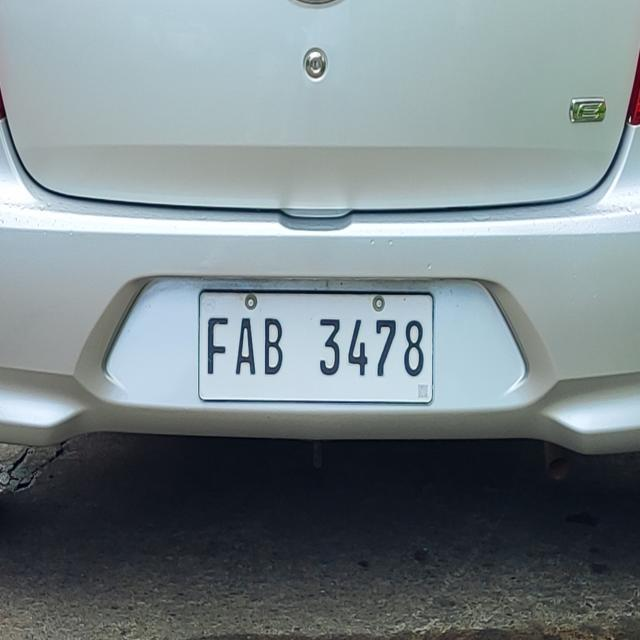LicensePlate: (190, 281, 444, 412)
